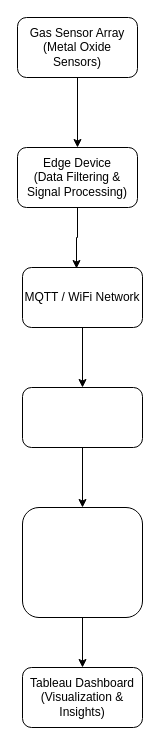
The diagram is 160 pixels wide and 745 high, and some of its shapes have lost their labels. The box of each missing label's shape, as (x1, y1, x2, y2) in pixels:
Cloud Storage (Time-Series Database): (22, 386, 142, 448)
Machine Learning Engine • Deep Learning Classifier • Time-Series Predictor: (22, 506, 142, 618)
